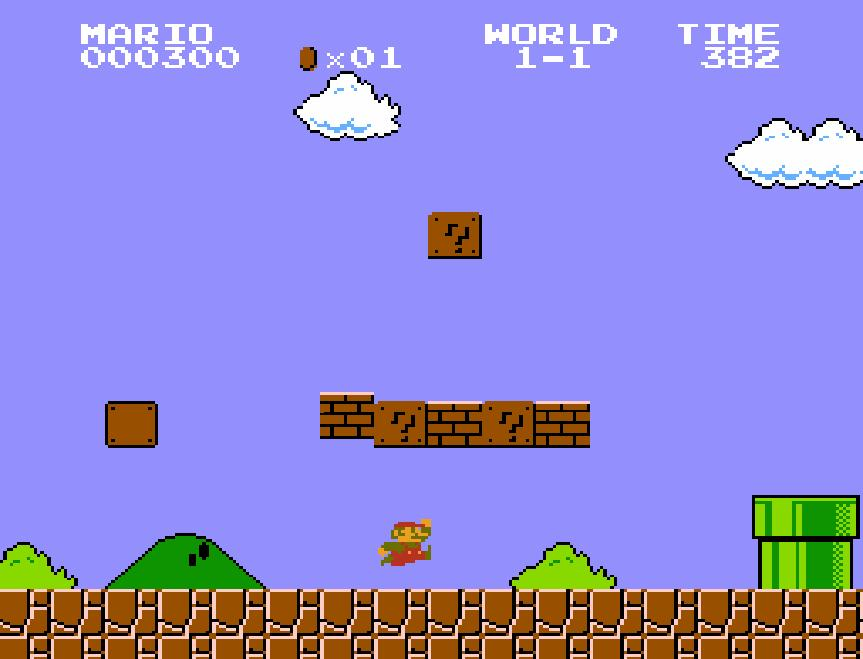little_mario: (376, 518, 434, 568)
